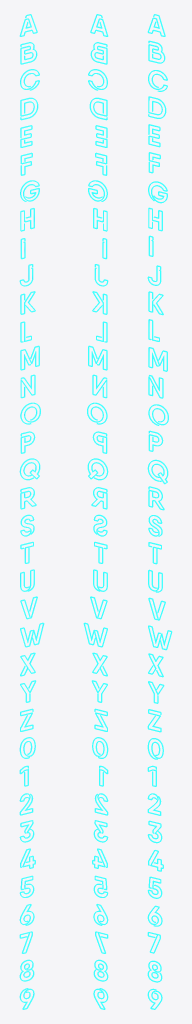
Rendered from OutlineLetter.fbx.
3 views of the same model, side by side, from view 1: azimuth 30°, elevation 25°; view 2: azimuth 150°, elevation 25°; view 3: azimuth 330°, elevation 25° (orthographic).
Parts seen in each view (by area): view 1: OutlineLetter_M, OutlineLetter_W, OutlineLetter_G, OutlineLetter_Q, OutlineLetter_B, OutlineLetter_D, OutlineLetter_N, OutlineLetter_O, OutlineLetter_U, OutlineLetter_8, OutlineLetter_C, OutlineLetter_R (+17 smaller); view 2: OutlineLetter_M, OutlineLetter_W, OutlineLetter_G, OutlineLetter_Q, OutlineLetter_B, OutlineLetter_D, OutlineLetter_N, OutlineLetter_O, OutlineLetter_U, OutlineLetter_8, OutlineLetter_C, OutlineLetter_R (+17 smaller); view 3: OutlineLetter_M, OutlineLetter_W, OutlineLetter_Q, OutlineLetter_G, OutlineLetter_N, OutlineLetter_B, OutlineLetter_D, OutlineLetter_O, OutlineLetter_R, OutlineLetter_5, OutlineLetter_8, OutlineLetter_C (+18 smaller).
Boxes of the visible parts, x1,y1,x2,y2 form: OutlineLetter_M: [20, 345, 39, 370]; OutlineLetter_W: [20, 622, 44, 647]; OutlineLetter_G: [20, 180, 39, 201]; OutlineLetter_Q: [19, 458, 40, 480]; OutlineLetter_B: [20, 42, 37, 64]; OutlineLetter_D: [20, 97, 38, 120]; OutlineLetter_N: [20, 374, 35, 398]; OutlineLetter_O: [20, 402, 40, 424]; OutlineLetter_U: [20, 569, 34, 591]; OutlineLetter_8: [19, 959, 34, 981]; OutlineLetter_C: [20, 69, 39, 90]; OutlineLetter_R: [20, 487, 36, 509]; OutlineLetter_M: [88, 345, 107, 370]; OutlineLetter_W: [83, 622, 107, 647]; OutlineLetter_G: [88, 180, 107, 201]; OutlineLetter_Q: [87, 458, 108, 480]; OutlineLetter_B: [90, 42, 107, 64]; OutlineLetter_D: [89, 97, 107, 120]; OutlineLetter_N: [92, 374, 107, 398]; OutlineLetter_O: [87, 402, 107, 424]; OutlineLetter_U: [93, 569, 107, 591]; OutlineLetter_8: [93, 959, 108, 981]; OutlineLetter_C: [88, 69, 107, 90]; OutlineLetter_R: [91, 487, 107, 509]; OutlineLetter_M: [148, 347, 167, 371]; OutlineLetter_W: [148, 625, 172, 650]; OutlineLetter_Q: [147, 459, 168, 484]; OutlineLetter_G: [148, 181, 167, 203]; OutlineLetter_N: [148, 375, 163, 398]; OutlineLetter_B: [148, 40, 165, 63]; OutlineLetter_D: [148, 96, 166, 118]; OutlineLetter_O: [148, 404, 168, 425]; OutlineLetter_R: [148, 486, 164, 510]; OutlineLetter_5: [147, 876, 162, 898]; OutlineLetter_8: [147, 960, 162, 982]; OutlineLetter_C: [148, 70, 167, 91].
Size of the model in its own units: 91.16 by 3575 by 3.
